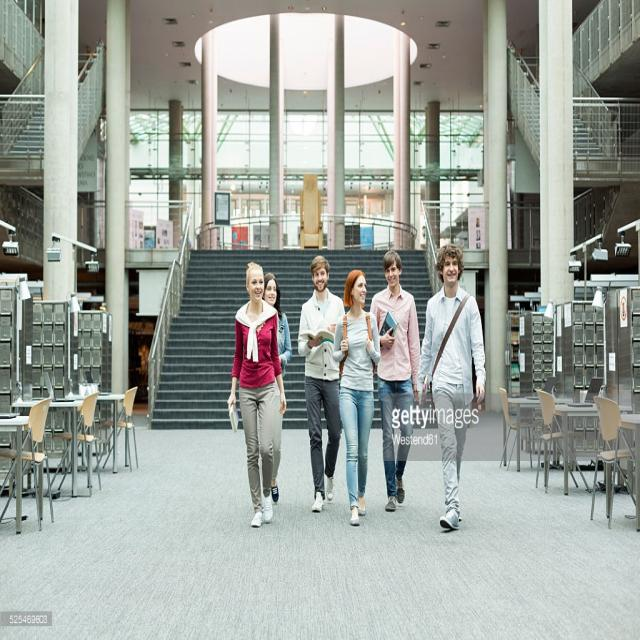body: (416, 244, 486, 531), (222, 261, 288, 532), (331, 266, 386, 529), (368, 249, 421, 513), (296, 254, 346, 514), (263, 272, 293, 504)
